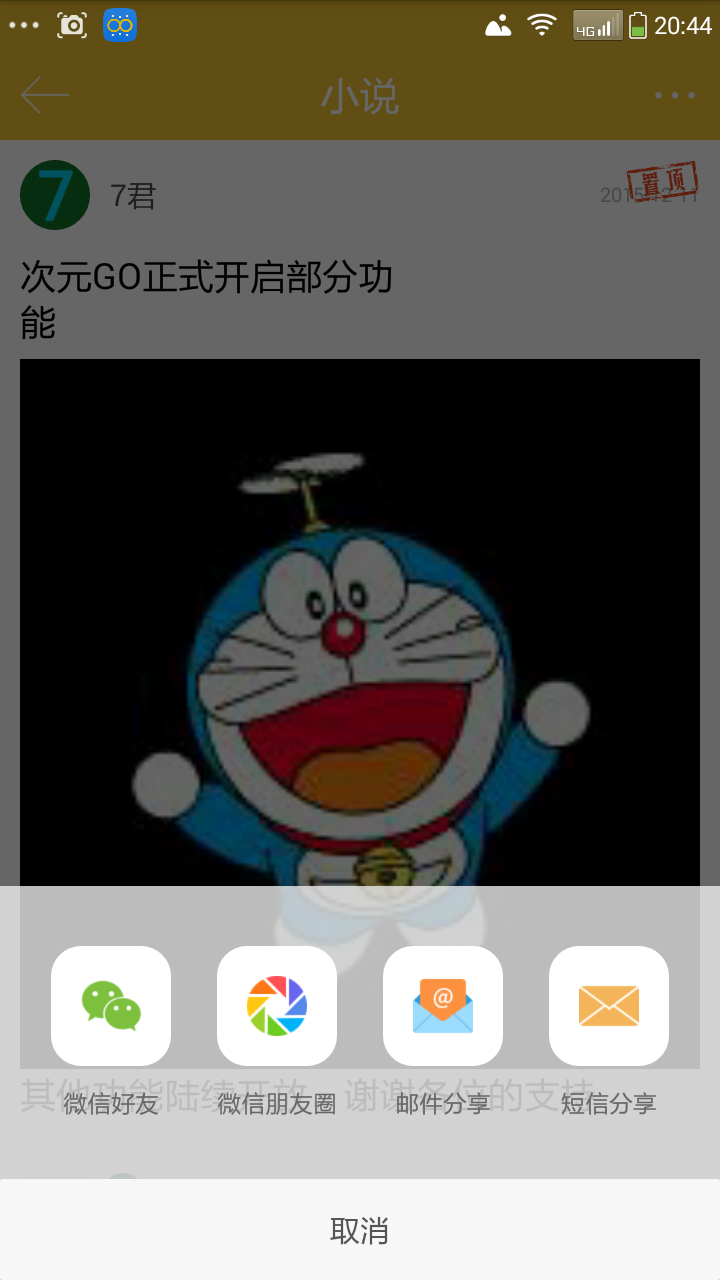button: (6, 1174, 720, 1272)
imgbutton: (53, 923, 193, 1126), (210, 931, 364, 1114)
